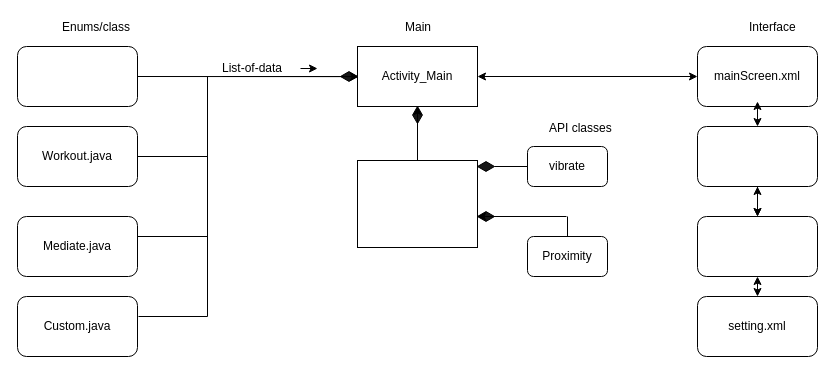
The diagram is 835 pixels wide and 374 high, and some of its shapes have lost their labels. Here are the shapes that lost their labels. From the top down, the centre of each, then its label:
At pixel 77 76: "Anxiety.java".
At pixel 757 156: "Exercise.xml".
At pixel 417 204: "Handler (Duration, st, pe, mid, time->vibrate) (Proximity) (Update UML)".
At pixel 757 246: "Custom.xml".
